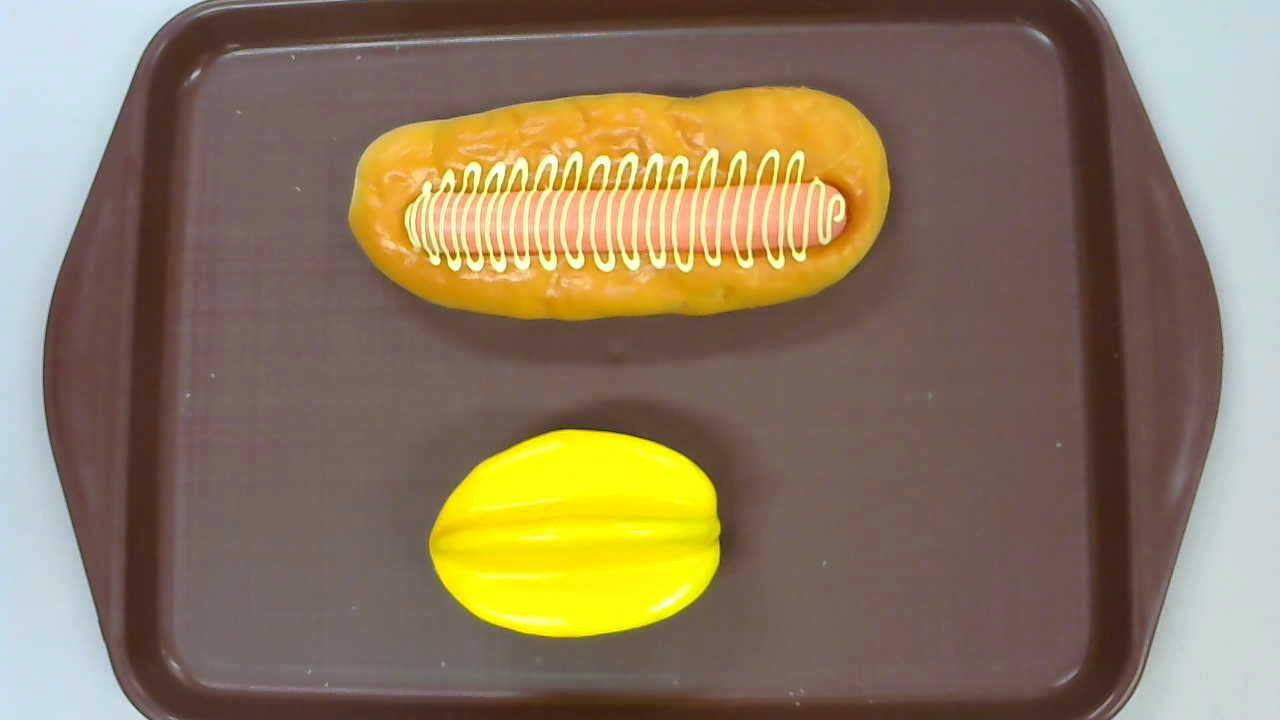hot dog: (347, 85, 891, 319)
star fruit: (429, 428, 722, 640)
